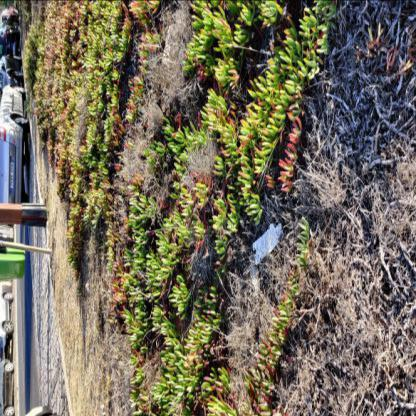Paper: (253, 223, 285, 266)
